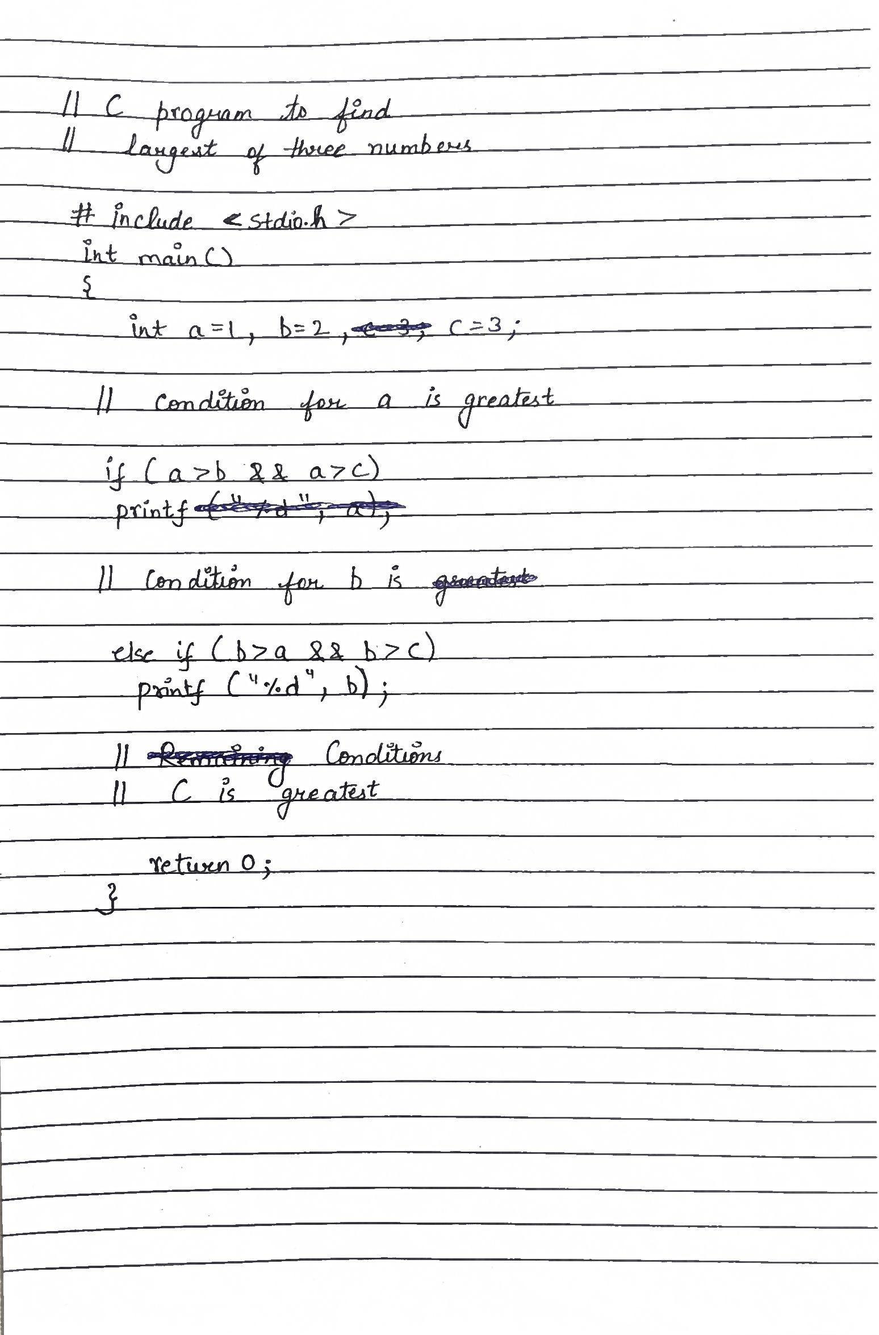cuttings: (193, 488, 408, 532), (146, 740, 294, 789), (431, 565, 539, 609), (350, 317, 434, 344)
